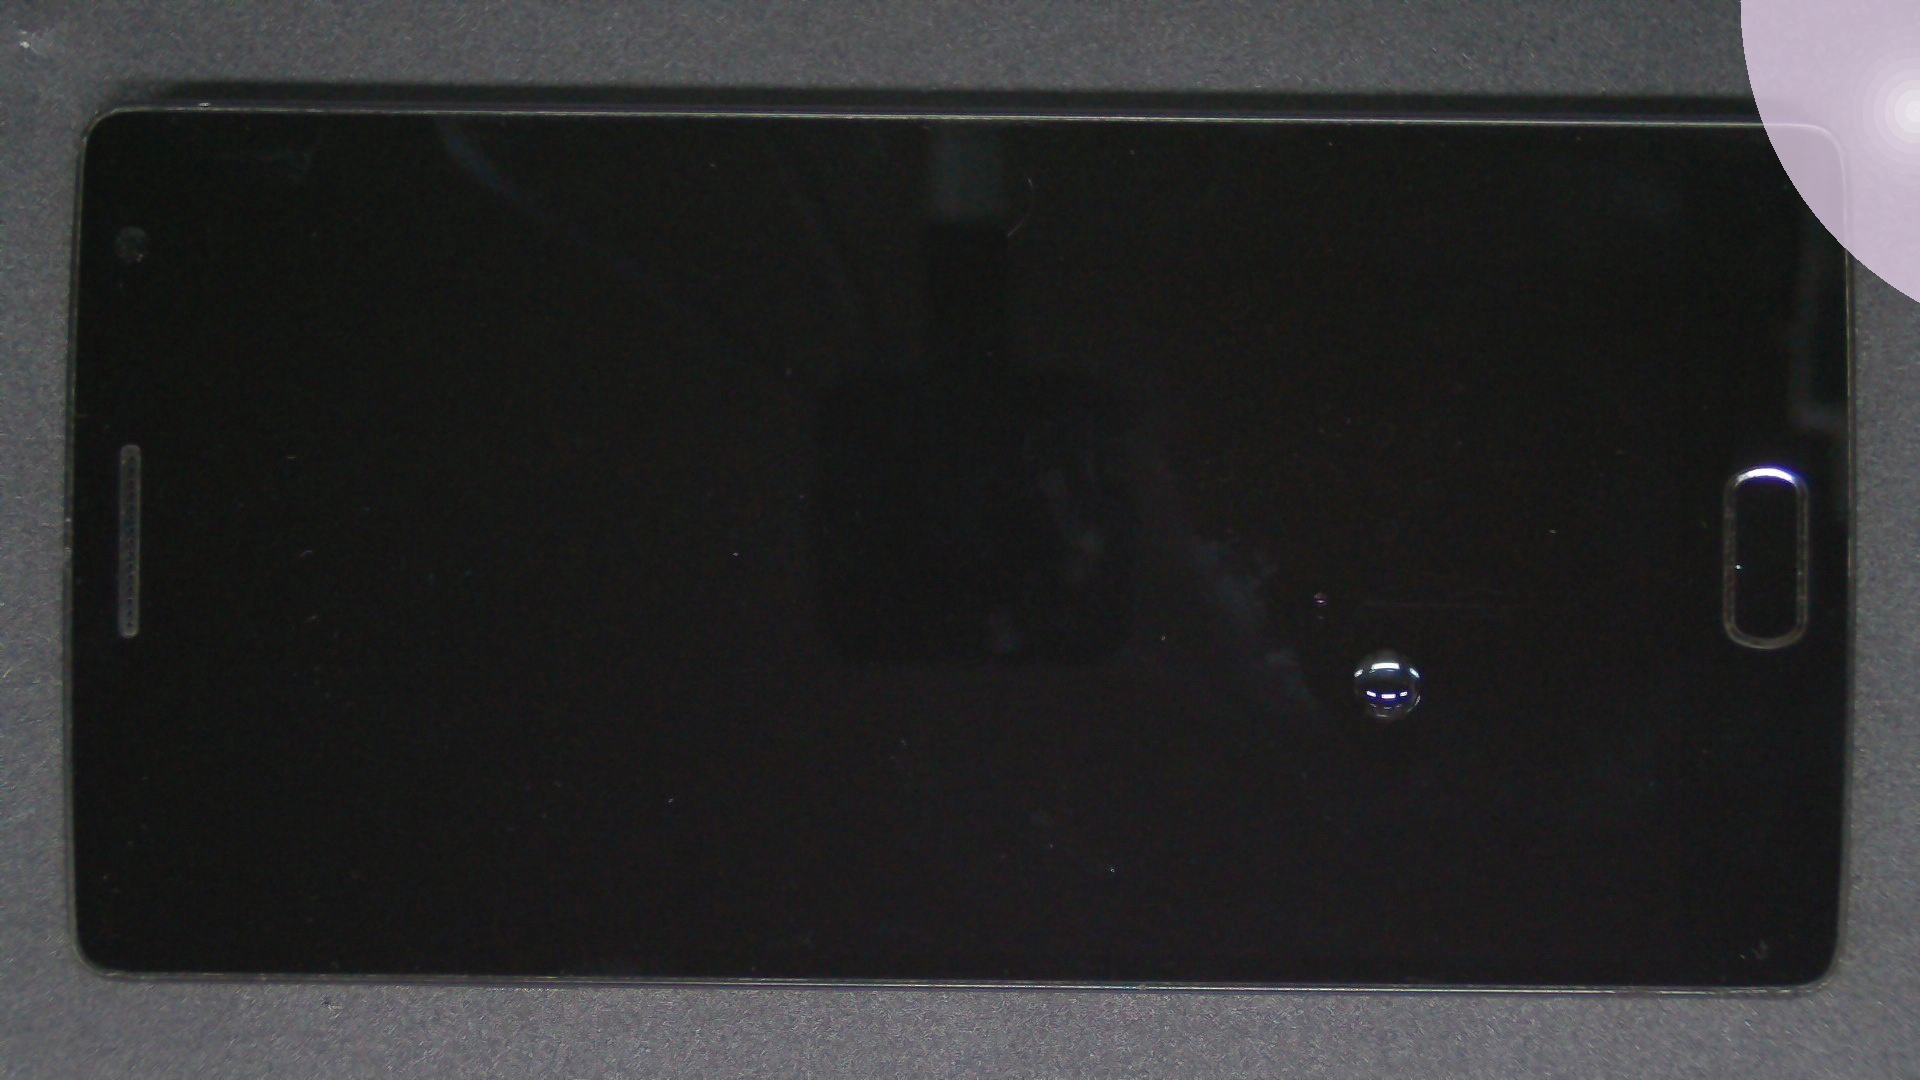oil: (691, 323, 1920, 972), (659, 295, 1920, 887)
